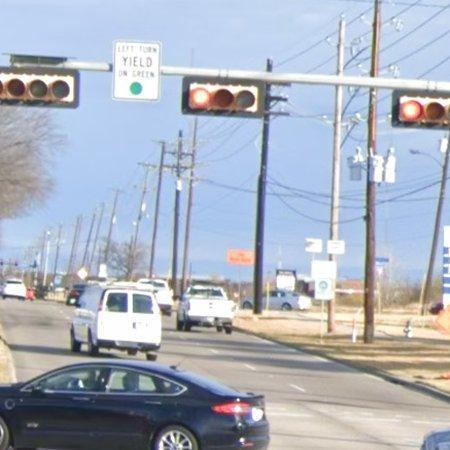traffic lights: (183, 76, 266, 117), (0, 68, 80, 108), (391, 86, 450, 130)
